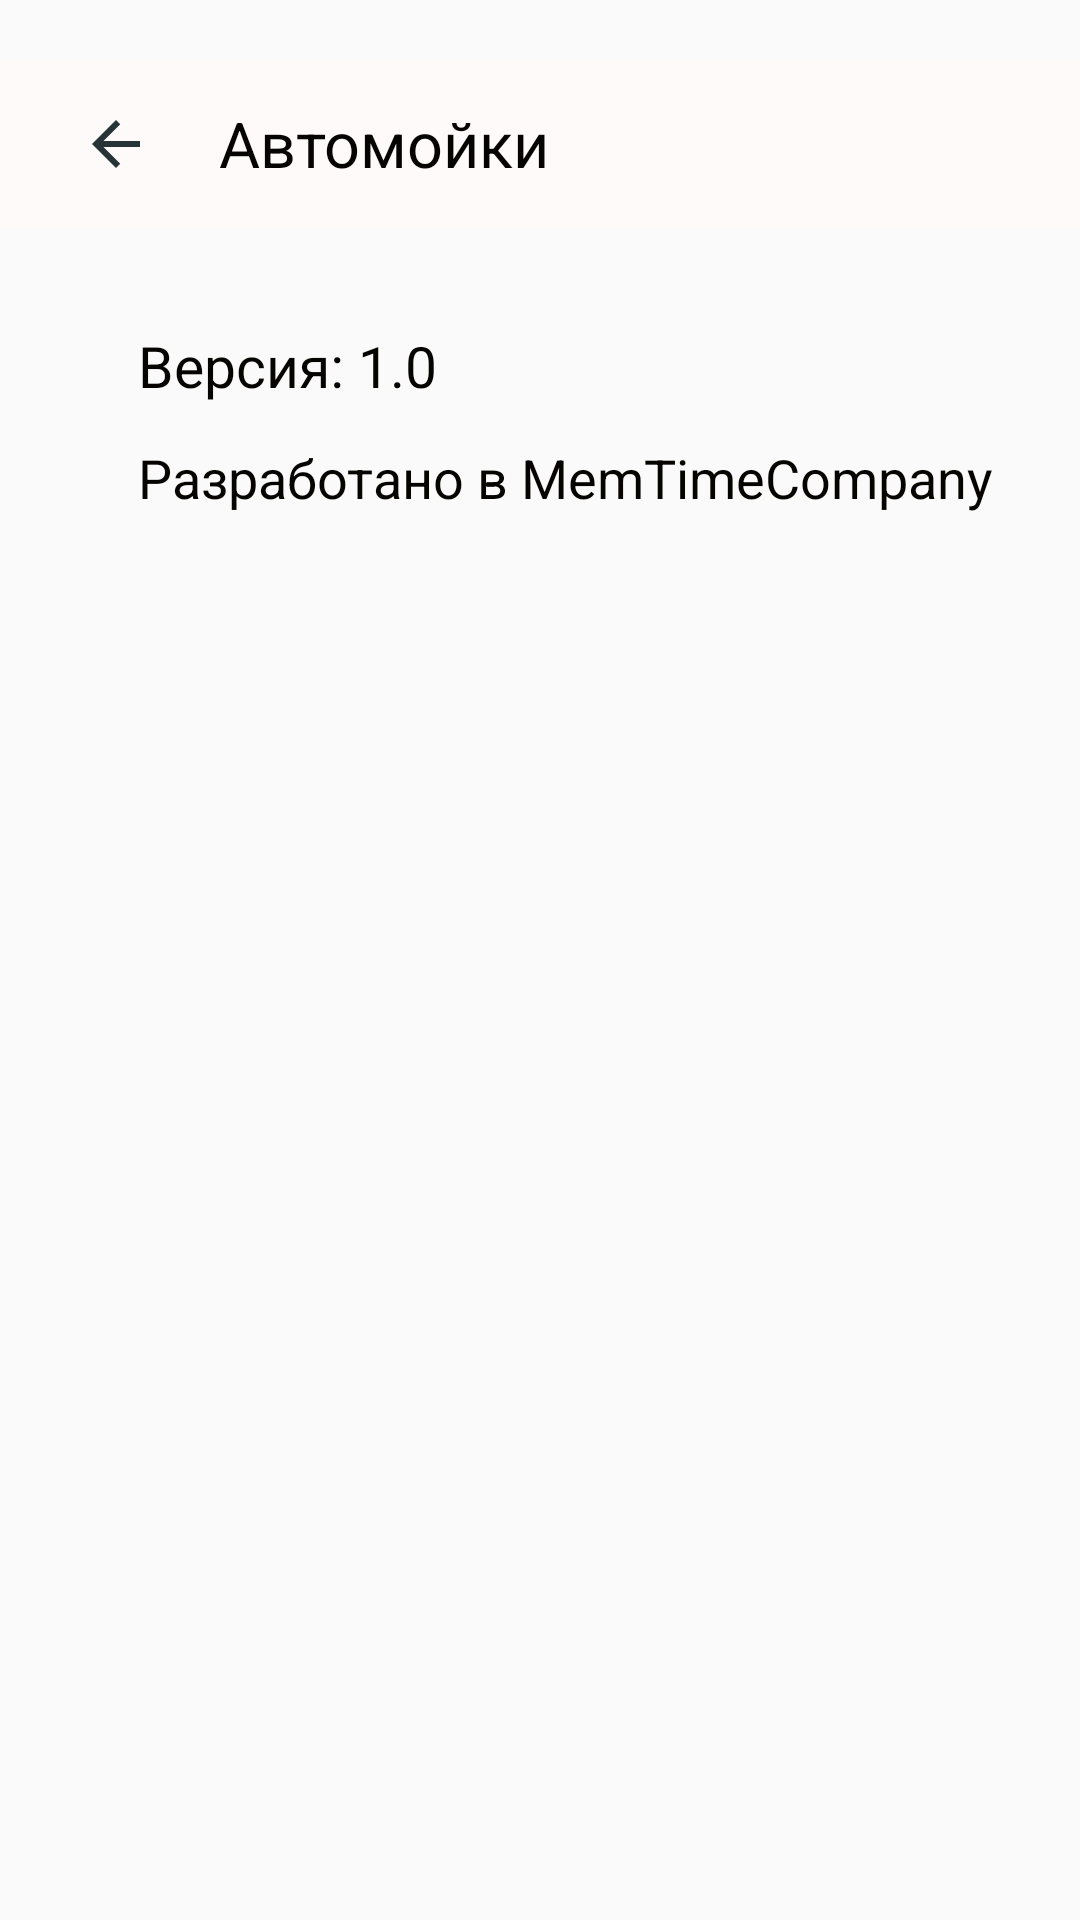

Point at icon controls on the screen. Image size 1080 x 1920, points as (x,y).
arrow back: (116,144)
